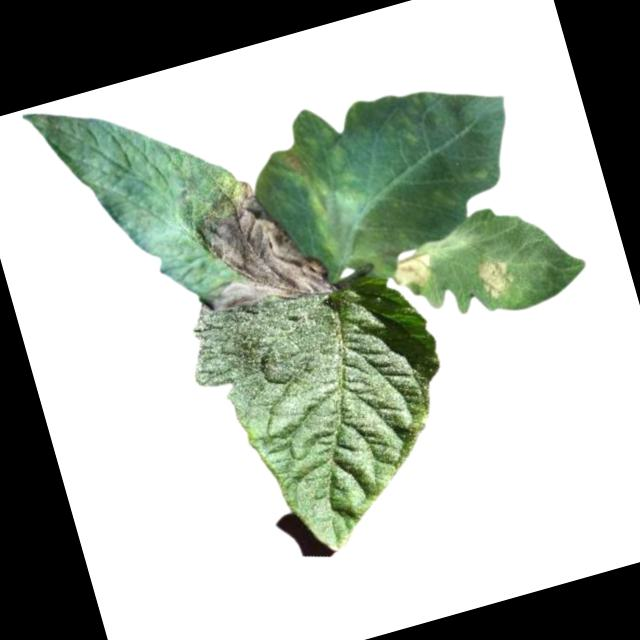Late_blight: (165, 142, 335, 326), (307, 173, 390, 278), (469, 247, 519, 305), (390, 250, 437, 294)
healthy: (177, 256, 484, 575)
